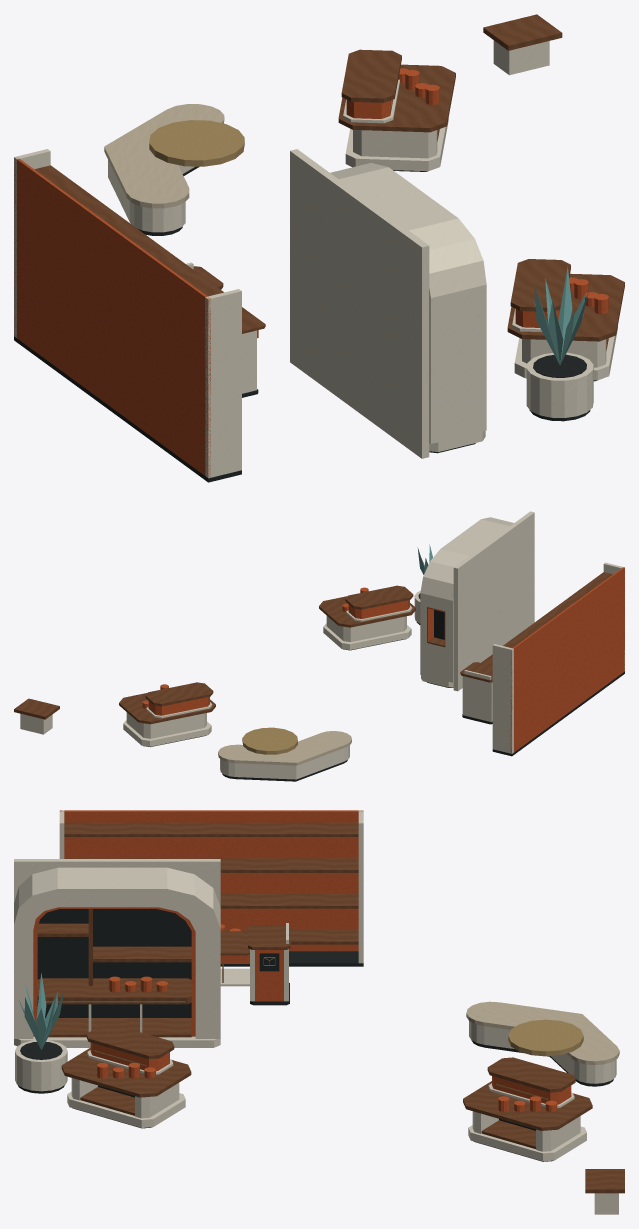
File: SHOP_D09_S72_F392__fitout.glb
3 views of the same model, one above another, from view 1: azimuth 30°, elevation 25°; view 2: azimuth 150°, elevation 25°; view 3: azimuth 270°, elevation 25° (orthographic). The views are drawn at different scales.
Visible parts, largest first — view 1: SHOP_D09_S72_F392__fitout__ivory_enamel, SHOP_D09_S72_F392__fitout__retail_terracotta_enamel, SHOP_D09_S72_F392__fitout__warm_walnut, SHOP_D09_S72_F392__fitout__oatmeal_weave, SHOP_D09_S72_F392__fitout__champagne_metal, SHOP_D09_S72_F392__fitout__dark_rubber, SHOP_D09_S72_F392__fitout__quiet_teal; view 2: SHOP_D09_S72_F392__fitout__ivory_enamel, SHOP_D09_S72_F392__fitout__retail_terracotta_enamel, SHOP_D09_S72_F392__fitout__warm_walnut, SHOP_D09_S72_F392__fitout__oatmeal_weave, SHOP_D09_S72_F392__fitout__dark_rubber, SHOP_D09_S72_F392__fitout__champagne_metal; view 3: SHOP_D09_S72_F392__fitout__warm_walnut, SHOP_D09_S72_F392__fitout__ivory_enamel, SHOP_D09_S72_F392__fitout__retail_terracotta_enamel, SHOP_D09_S72_F392__fitout__dark_rubber, SHOP_D09_S72_F392__fitout__oatmeal_weave, SHOP_D09_S72_F392__fitout__champagne_metal, SHOP_D09_S72_F392__fitout__quiet_teal.
Part boxes in pixels (left/top/right/bottom): SHOP_D09_S72_F392__fitout__ivory_enamel: left=14, top=40, right=617, bottom=478; SHOP_D09_S72_F392__fitout__retail_terracotta_enamel: left=14, top=68, right=608, bottom=477; SHOP_D09_S72_F392__fitout__warm_walnut: left=34, top=14, right=624, bottom=350; SHOP_D09_S72_F392__fitout__oatmeal_weave: left=104, top=104, right=224, bottom=208; SHOP_D09_S72_F392__fitout__champagne_metal: left=149, top=100, right=392, bottom=166; SHOP_D09_S72_F392__fitout__dark_rubber: left=14, top=166, right=597, bottom=482; SHOP_D09_S72_F392__fitout__quiet_teal: left=532, top=267, right=588, bottom=365; SHOP_D09_S72_F392__fitout__ivory_enamel: left=20, top=511, right=624, bottom=779; SHOP_D09_S72_F392__fitout__retail_terracotta_enamel: left=142, top=567, right=624, bottom=753; SHOP_D09_S72_F392__fitout__warm_walnut: left=14, top=572, right=612, bottom=724; SHOP_D09_S72_F392__fitout__oatmeal_weave: left=218, top=731, right=351, bottom=765; SHOP_D09_S72_F392__fitout__dark_rubber: left=143, top=593, right=624, bottom=781; SHOP_D09_S72_F392__fitout__champagne_metal: left=242, top=727, right=297, bottom=754; SHOP_D09_S72_F392__fitout__warm_walnut: left=37, top=822, right=624, bottom=1193; SHOP_D09_S72_F392__fitout__ivory_enamel: left=14, top=810, right=618, bottom=1214; SHOP_D09_S72_F392__fitout__retail_terracotta_enamel: left=33, top=810, right=571, bottom=1111; SHOP_D09_S72_F392__fitout__dark_rubber: left=18, top=909, right=613, bottom=1161; SHOP_D09_S72_F392__fitout__oatmeal_weave: left=466, top=1001, right=619, bottom=1064; SHOP_D09_S72_F392__fitout__champagne_metal: left=46, top=957, right=583, bottom=1099; SHOP_D09_S72_F392__fitout__quiet_teal: left=19, top=973, right=63, bottom=1049.
Bounding box in the file's own units: 10.25 × 3 × 10.05.
7 materials, 6 textured.
